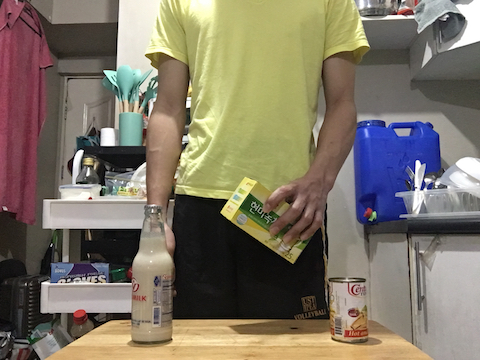bottle: (128, 202, 178, 346)
box: (218, 173, 316, 269)
can: (327, 275, 370, 343)
grab: (262, 176, 332, 249)
